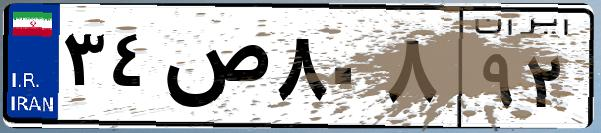0: (330, 28, 385, 110)
2: (525, 38, 570, 115)
3: (57, 26, 110, 100)
4: (110, 28, 158, 98)
8: (270, 28, 330, 110), (385, 28, 445, 110)
9: (475, 38, 525, 113)
ص: (158, 20, 270, 120)
